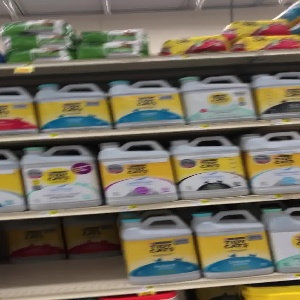void: (1, 211, 115, 300)
